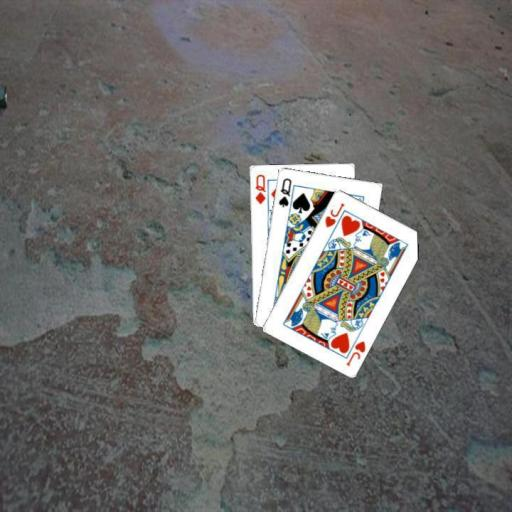card-corner: (322, 199, 346, 229), (343, 338, 367, 367), (275, 175, 293, 208), (252, 172, 266, 206)
